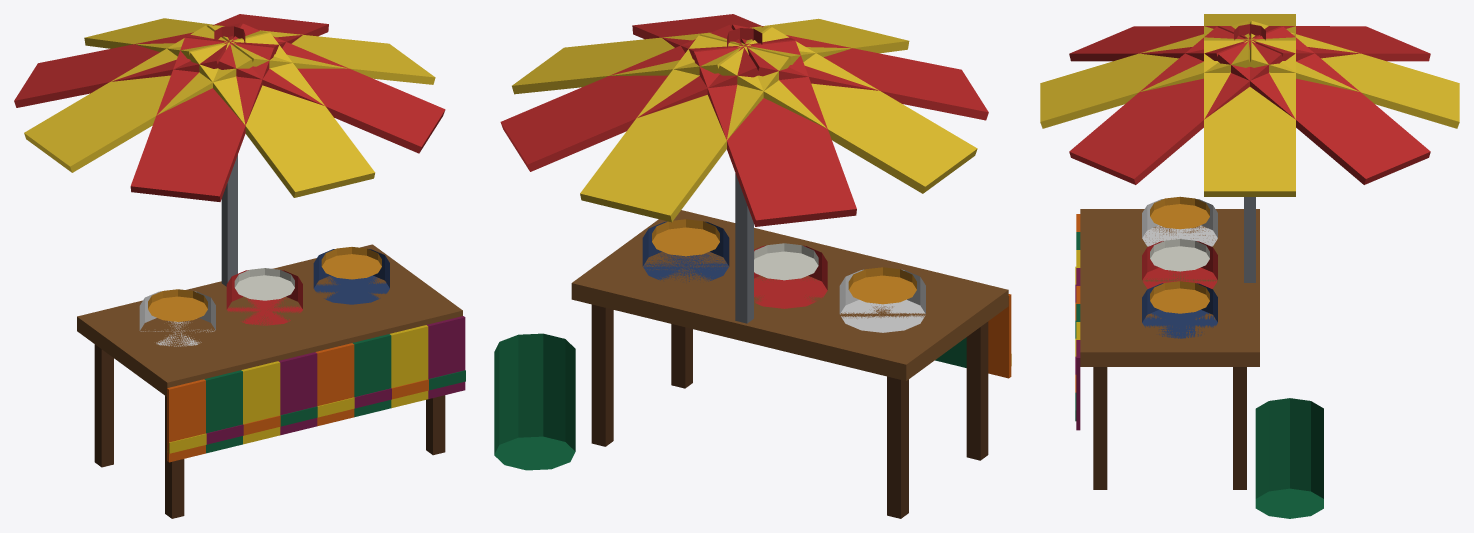
The model's file is stall.glb.
3 renders of one model, left to right at view 1: azimuth 30°, elevation 25°; view 2: azimuth 150°, elevation 25°; view 3: azimuth 270°, elevation 25°, orthographic. The views are drawn at different scales.
Parts seen in each view (by area): view 1: stall; view 2: stall; view 3: stall.
Boxes of the visible parts, x1=… form: stall: x1=14, y1=14, x2=465, y2=518; stall: x1=494, y1=14, x2=1011, y2=518; stall: x1=1040, y1=14, x2=1459, y2=518.
Bounding box in the file's own units: 2.18 × 2.17 × 2.1.
